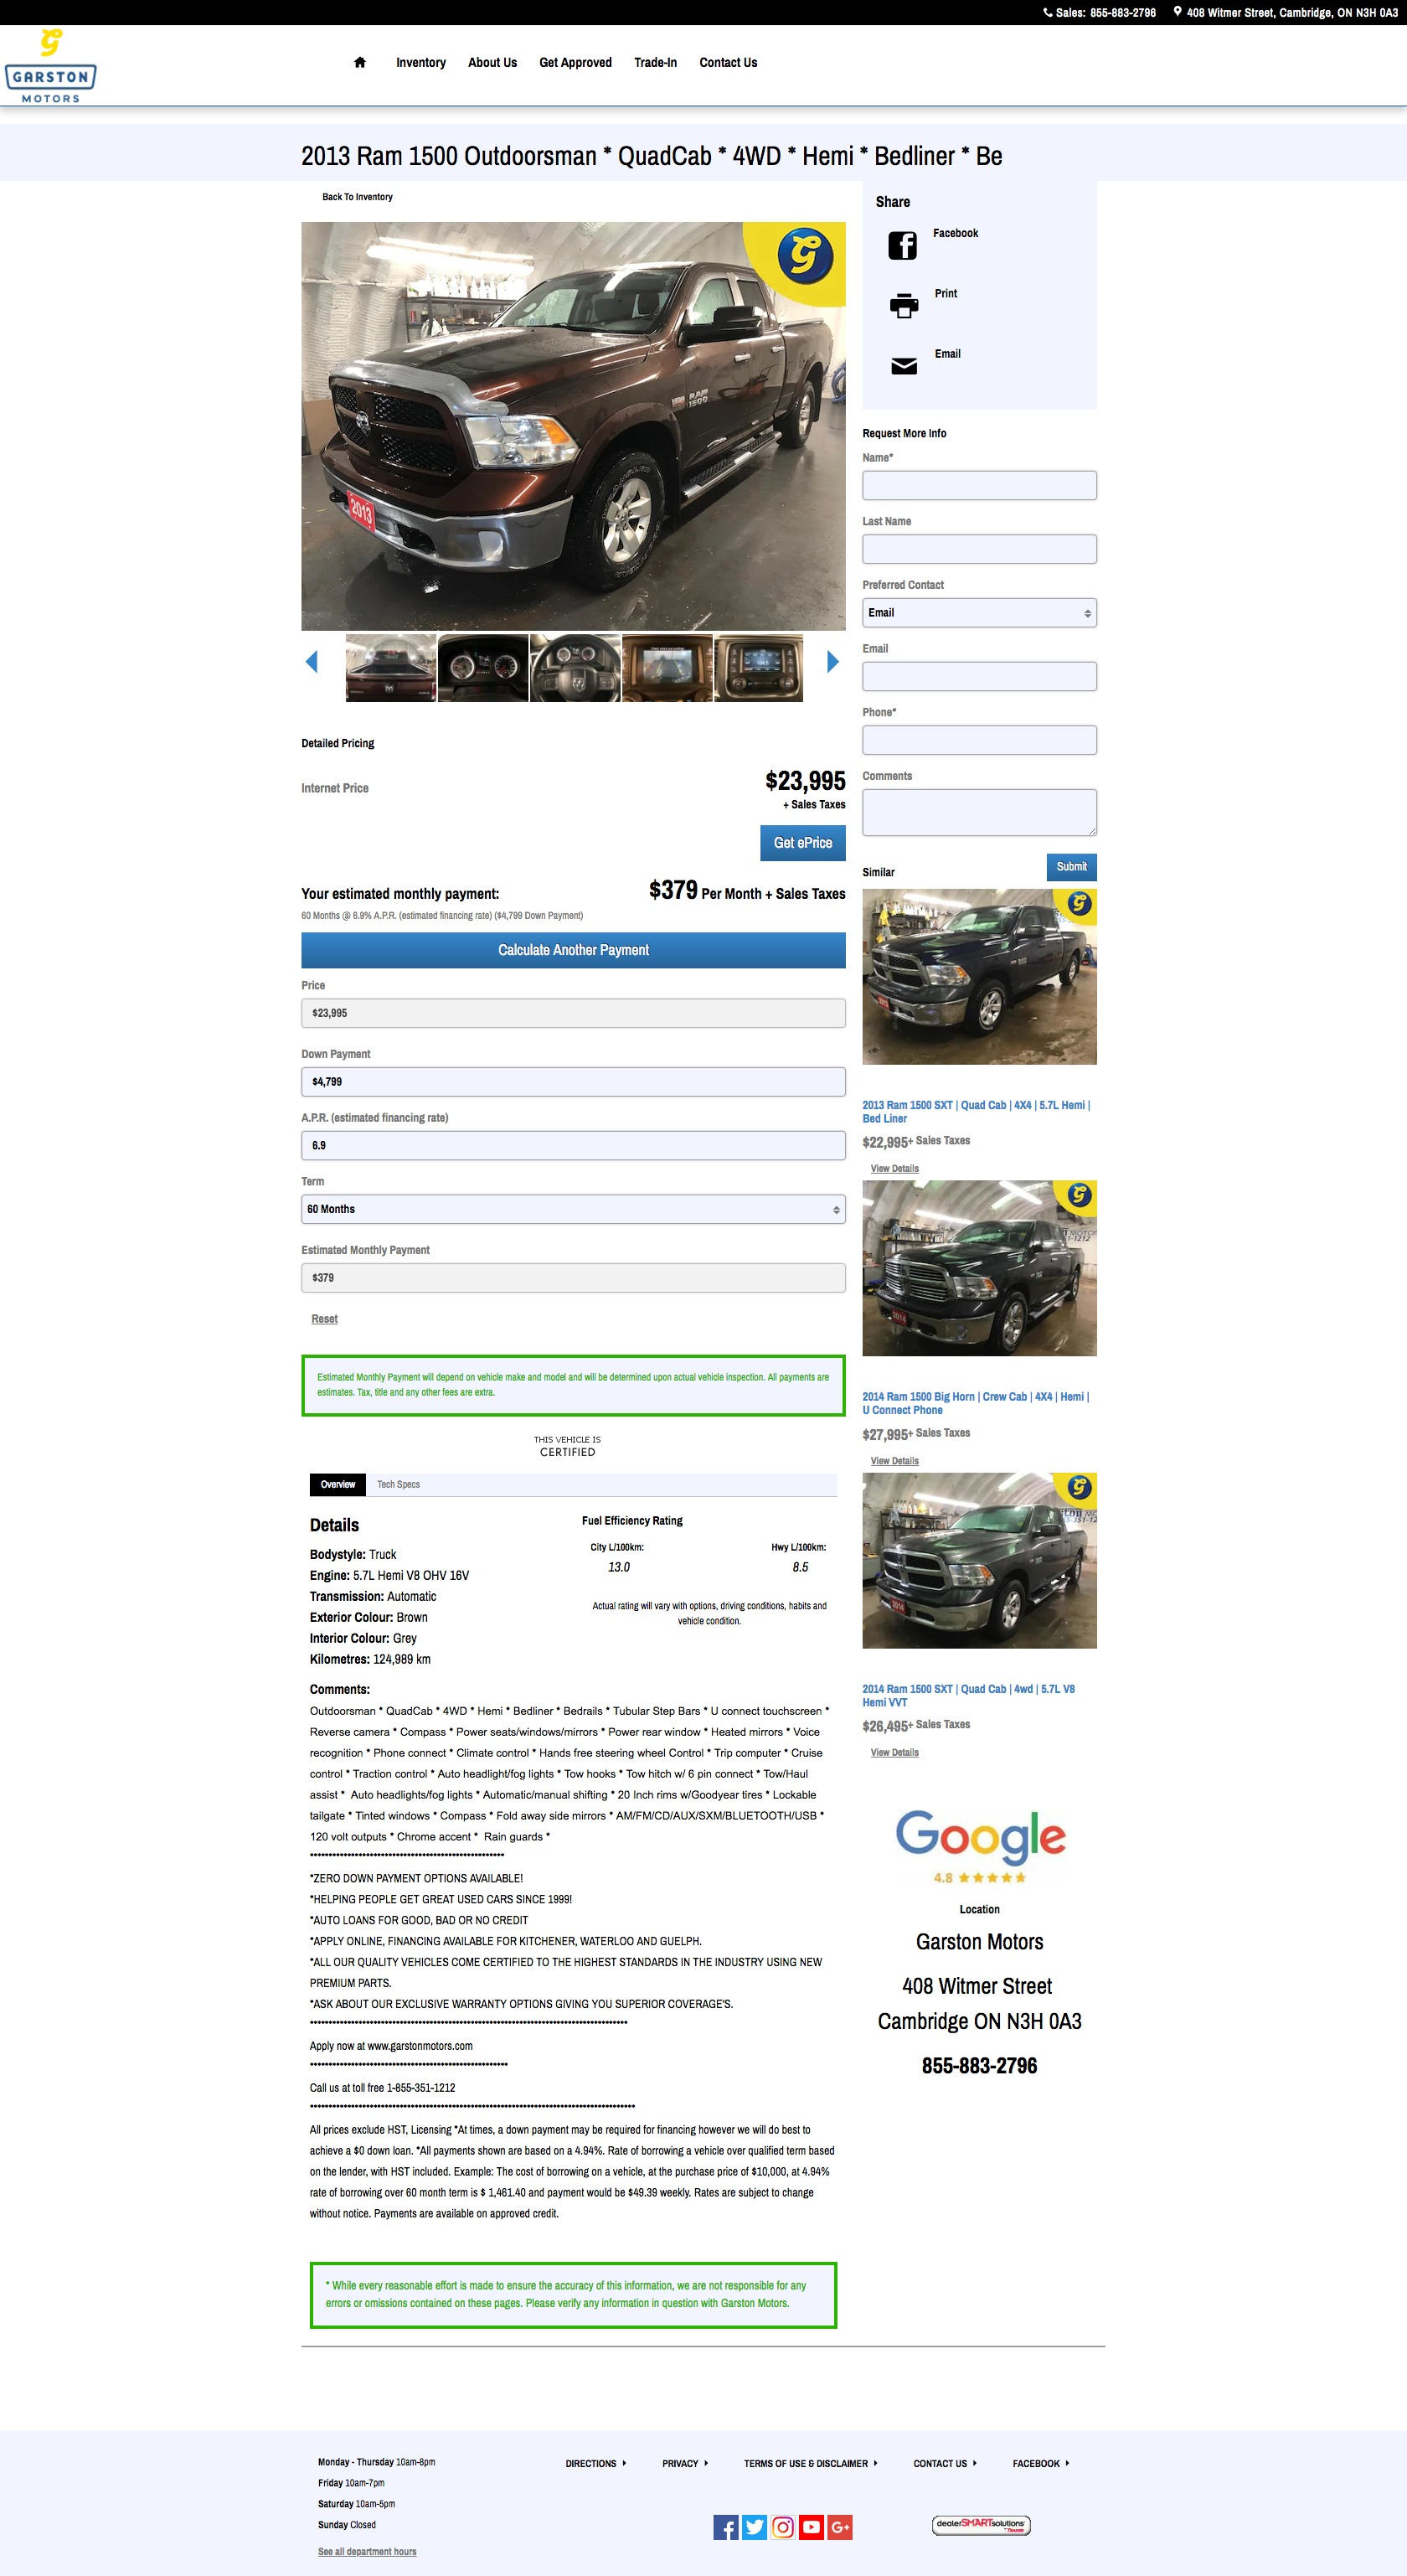car: (828, 650, 840, 674)
